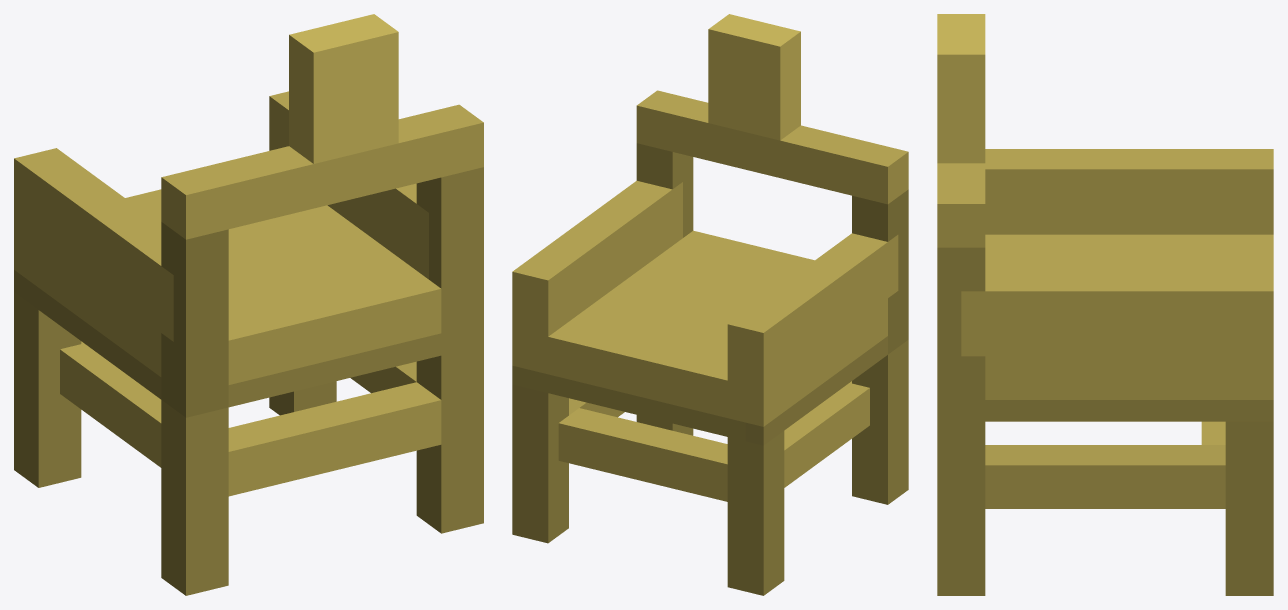
File: trono_agrietada_01.glb
3 views of the same model, side by side, from view 1: azimuth 30°, elevation 25°; view 2: azimuth 150°, elevation 25°; view 3: azimuth 270°, elevation 25° (orthographic). The views are drawn at different scales.
Parts seen in each view (by area): view 1: trono_agrietada; view 2: trono_agrietada; view 3: trono_agrietada.
Boxes of the visible parts, x1=… form: trono_agrietada: x1=14, y1=14, x2=483, y2=595; trono_agrietada: x1=512, y1=14, x2=908, y2=595; trono_agrietada: x1=937, y1=14, x2=1273, y2=595.
Size of the model in its own units: 1 by 1.64 by 1.
